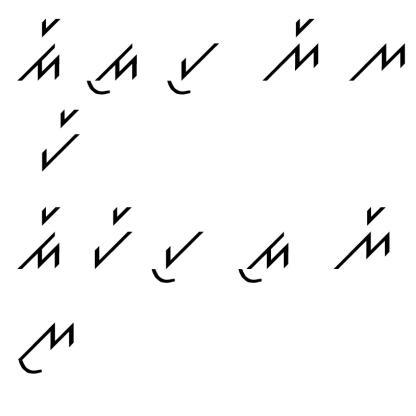dar: (11, 202, 69, 278), (17, 13, 67, 87)
daw: (228, 219, 294, 289), (83, 35, 141, 103)
na: (347, 36, 410, 92)
nar: (328, 205, 394, 275), (262, 10, 323, 85)
naw: (13, 314, 79, 377)
par: (86, 199, 138, 272), (37, 106, 88, 172)
paw: (148, 226, 207, 289), (164, 41, 230, 97)
